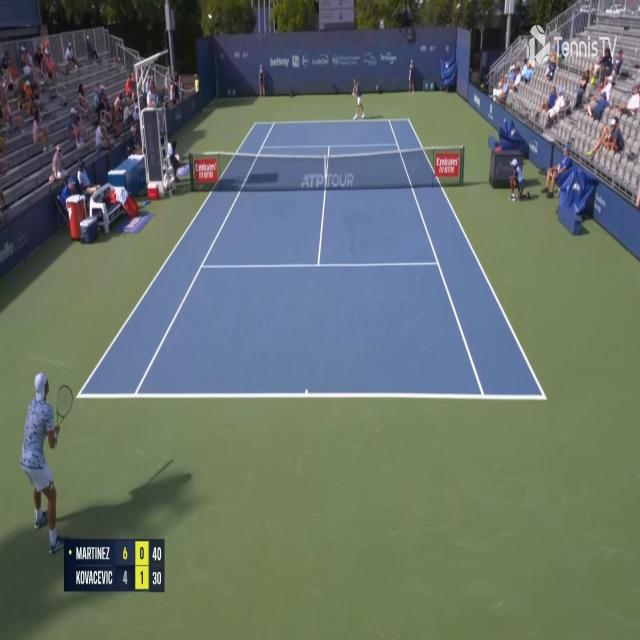tennis-player: (17, 365, 76, 555), (350, 76, 368, 123)
